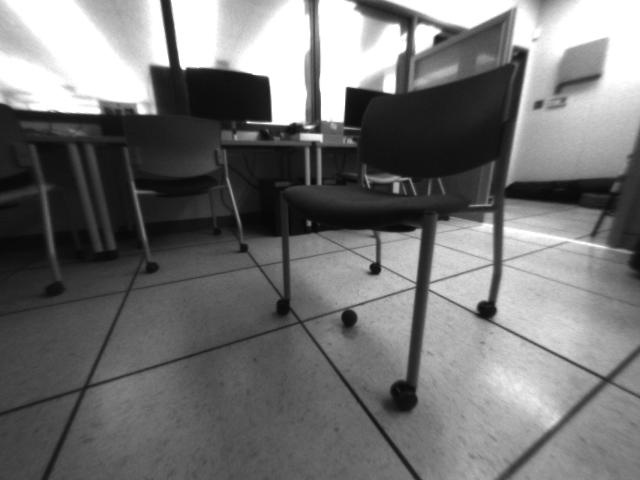dogtoy: (336, 300, 364, 330)
